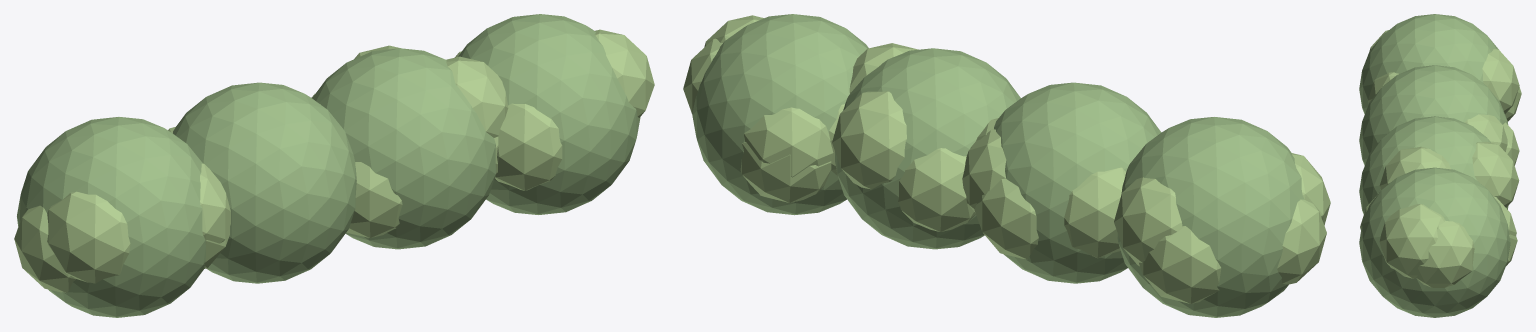
The model's file is bush_row.glb.
3 views of the same model, side by side, from view 1: azimuth 30°, elevation 25°; view 2: azimuth 150°, elevation 25°; view 3: azimuth 270°, elevation 25° (orthographic). The views are drawn at different scales.
Parts seen in each view (by area): view 1: bush_row_leaf, bush_row_leaf2; view 2: bush_row_leaf, bush_row_leaf2; view 3: bush_row_leaf, bush_row_leaf2.
Part boxes in pixels (<box>): bush_row_leaf: <box>17,14,640,317</box>; bush_row_leaf2: <box>14,29,654,293</box>; bush_row_leaf: <box>692,14,1304,317</box>; bush_row_leaf2: <box>683,15,1330,303</box>; bush_row_leaf: <box>1359,14,1510,317</box>; bush_row_leaf2: <box>1360,30,1521,287</box>.
Size of the model in its own units: 3.9 by 1.1 by 1.18.
